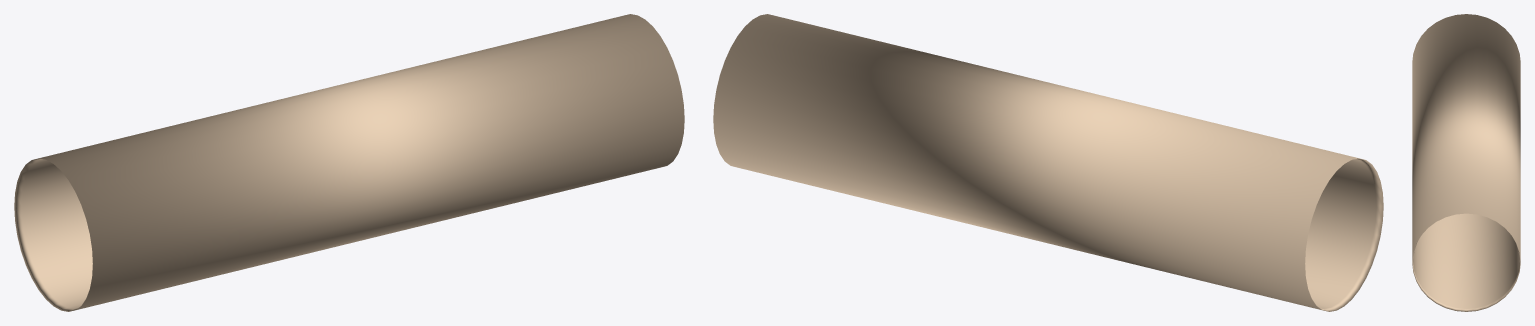
Rendered from tunnel2.fbx.
The picture shows the model from 3 angles, left to right: view 1: azimuth 30°, elevation 25°; view 2: azimuth 150°, elevation 25°; view 3: azimuth 270°, elevation 25°; orthographic projection. The views are drawn at different scales.
Visible parts, largest first — view 1: Cylinder; view 2: Cylinder; view 3: Cylinder.
Boxes of the visible parts, left/top/right/bottom form: Cylinder: left=14, top=14, right=684, bottom=311; Cylinder: left=713, top=14, right=1383, bottom=311; Cylinder: left=1412, top=14, right=1520, bottom=311.
Size of the model in its own units: 5013 by 1153 by 1153.
